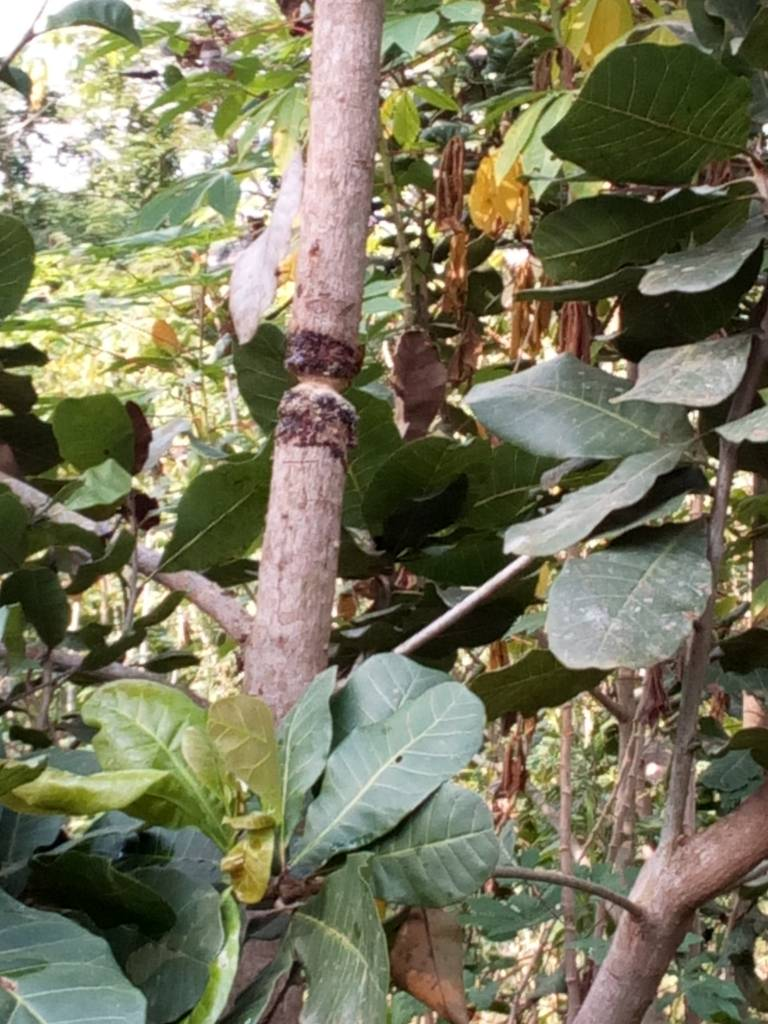Analepse trifasciata: (249, 338, 374, 447)
